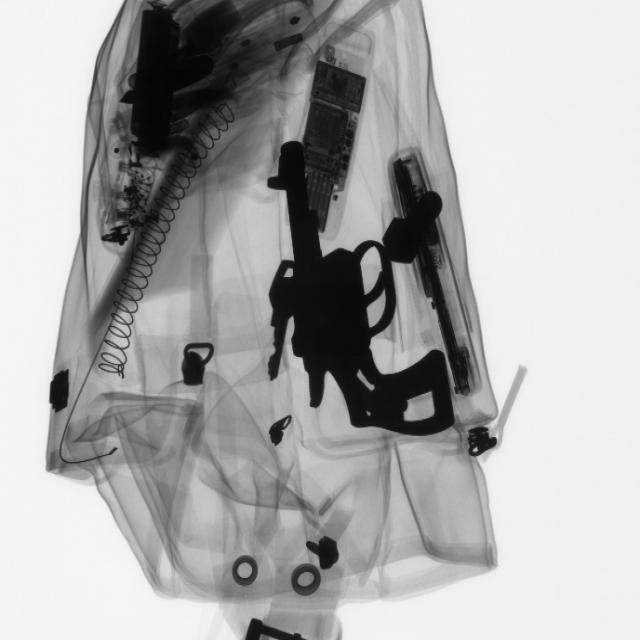GUN: (268, 132, 453, 436)
